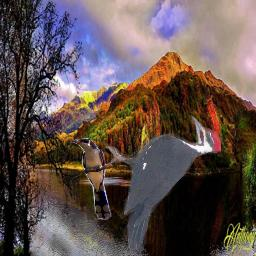Cuckoo: (71, 138, 112, 220)
Woodpecker: (104, 116, 224, 255)
